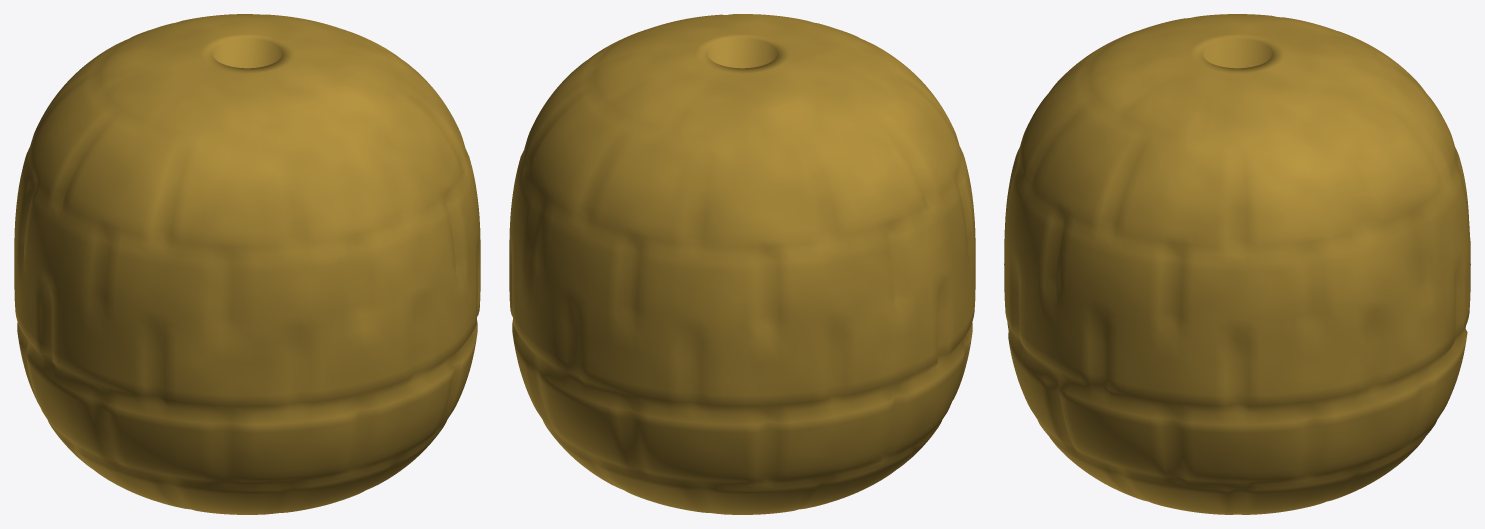
The model's file is armor.glb.
The picture shows the model from 3 angles, left to right: view 1: azimuth 30°, elevation 25°; view 2: azimuth 150°, elevation 25°; view 3: azimuth 270°, elevation 25°; orthographic projection.
Visible parts, largest first — view 1: armor; view 2: armor; view 3: armor.
Boxes of the visible parts, <box> form: armor: <box>14,14,480,514</box>; armor: <box>509,14,975,514</box>; armor: <box>1004,14,1470,514</box>.
Bounding box in the file's own units: 0.00798 × 0.00799 × 0.008.
